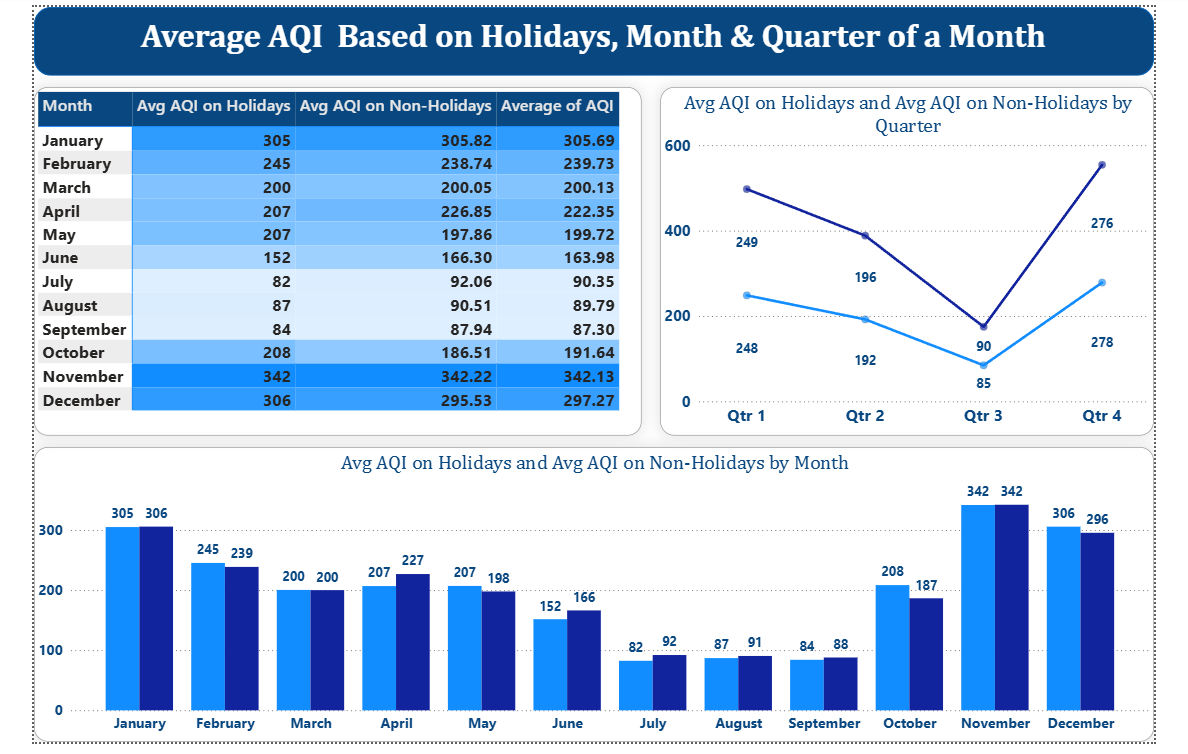

What the dashboard file says about the page in this screenshot:
{"tool":"powerbi","page":{"name":"Average AQI Based on Holidays","canvas":[1280,840],"ordinal":3},"visuals":[{"type":"clusteredColumnChart","fields":{"Category":["Date.Calender Date.Variation.Date Hierarchy.Month"],"Y":["Pollutants_Gas.Avg PM10 on Holidays","Pollutants_Gas.Avg PM10 on Non-Holidays"]},"box":[0,502.9,1280,337.1],"z":0},{"type":"pivotTable","fields":{"Values":["Pollutants_Gas.Avg PM10 on Holidays","Pollutants_Gas.Avg PM10 on Non-Holidays","Avg(Pollutants_Gas.AQI)"],"Rows":["Date.Calender Date.Variation.Date Hierarchy.Month"]},"box":[0,91.4,694.3,398.6],"z":1000},{"type":"stackedAreaChart","fields":{"Category":["Date.Calender Date.Variation.Date Hierarchy.Quarter"],"Y":["Pollutants_Gas.Avg PM10 on Holidays","Pollutants_Gas.Avg PM10 on Non-Holidays"]},"box":[715.7,91.4,564.3,398.6],"z":2000},{"type":"shape","box":[0,0,1280,78.6],"z":3000},{"type":"textbox","box":[180,6.7,920,65],"z":4000}]}

Visuals, with their boxes on the page's 1280x840 design canvas (x1, y1, x2, y2). These are canvas units, not pixel positions in the 1188x754 screenshot, which may show the page scaled, cropped or inside an application window:
clusteredColumnChart - Date.Calender Date.Variation.Date Hierarchy.Month x Pollutants_Gas.Avg PM10 on Holidays: locate(0, 503, 1280, 840)
pivotTable - Pollutants_Gas.Avg PM10 on Holidays x Pollutants_Gas.Avg PM10 on Non-Holidays: locate(0, 91, 694, 490)
stackedAreaChart - Date.Calender Date.Variation.Date Hierarchy.Quarter x Pollutants_Gas.Avg PM10 on Holidays: locate(716, 91, 1280, 490)
shape: locate(0, 0, 1280, 79)
textbox: locate(180, 7, 1100, 72)
